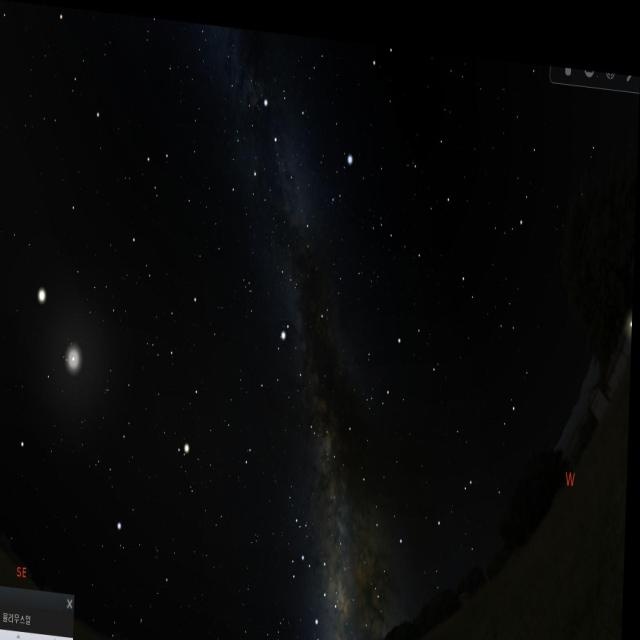aquila: (251, 308, 331, 436)
cygnus: (250, 87, 320, 254)
lyra: (324, 133, 355, 221)
moon: (57, 334, 96, 394)
sagittarius: (294, 534, 350, 637)
